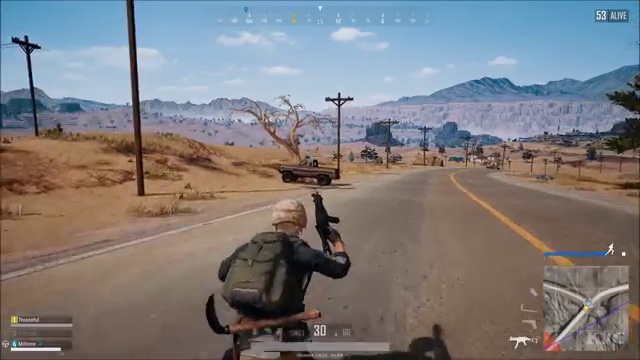Player: (197, 188, 361, 323)
